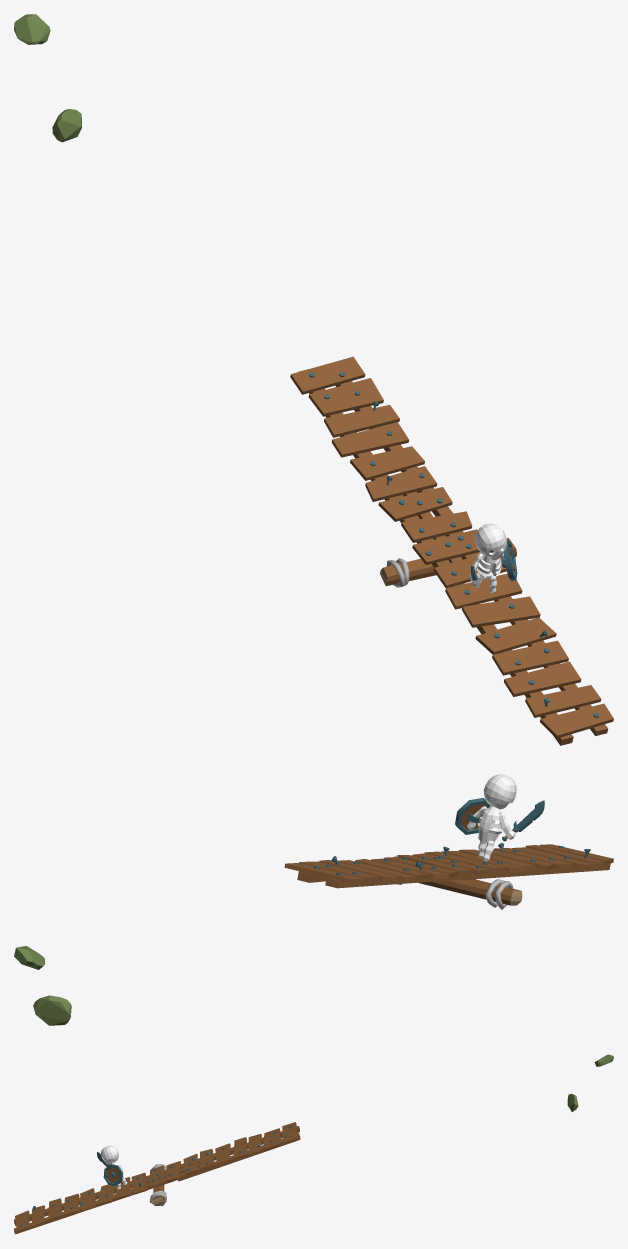
3 renders of one model, top to bottom at view 1: azimuth 30°, elevation 25°; view 2: azimuth 150°, elevation 25°; view 3: azimuth 270°, elevation 25°, orthographic. The views are drawn at different scales.
Visible parts, largest first — view 1: Plane014_brown_0, Box036_brown_0; view 2: Plane014_brown_0, Box036_brown_0, Box037_brown_0, Box133_green3_0, Head062_white_0, Sphere097_white_0, Cylinder1286_metal_0, Box141_green3_0, Cylinder1285_metal_0; view 3: Plane014_brown_0, Box036_brown_0, Head062_white_0.
Boxes of the visible parts, bbox=[...] form: Plane014_brown_0: bbox=[290, 356, 613, 738]; Box036_brown_0: bbox=[298, 370, 608, 745]; Plane014_brown_0: bbox=[284, 844, 613, 883]; Box036_brown_0: bbox=[297, 863, 610, 888]; Box037_brown_0: bbox=[418, 879, 521, 905]; Box133_green3_0: bbox=[33, 995, 71, 1025]; Head062_white_0: bbox=[483, 774, 516, 809]; Sphere097_white_0: bbox=[477, 806, 502, 842]; Cylinder1286_metal_0: bbox=[455, 798, 490, 834]; Box141_green3_0: bbox=[14, 946, 45, 969]; Cylinder1285_metal_0: bbox=[502, 800, 544, 841]; Plane014_brown_0: bbox=[15, 1122, 297, 1232]; Box036_brown_0: bbox=[14, 1126, 300, 1234]; Head062_white_0: bbox=[101, 1145, 118, 1164].
Bounding box in the file's own units: 289 × 693 × 2177.
